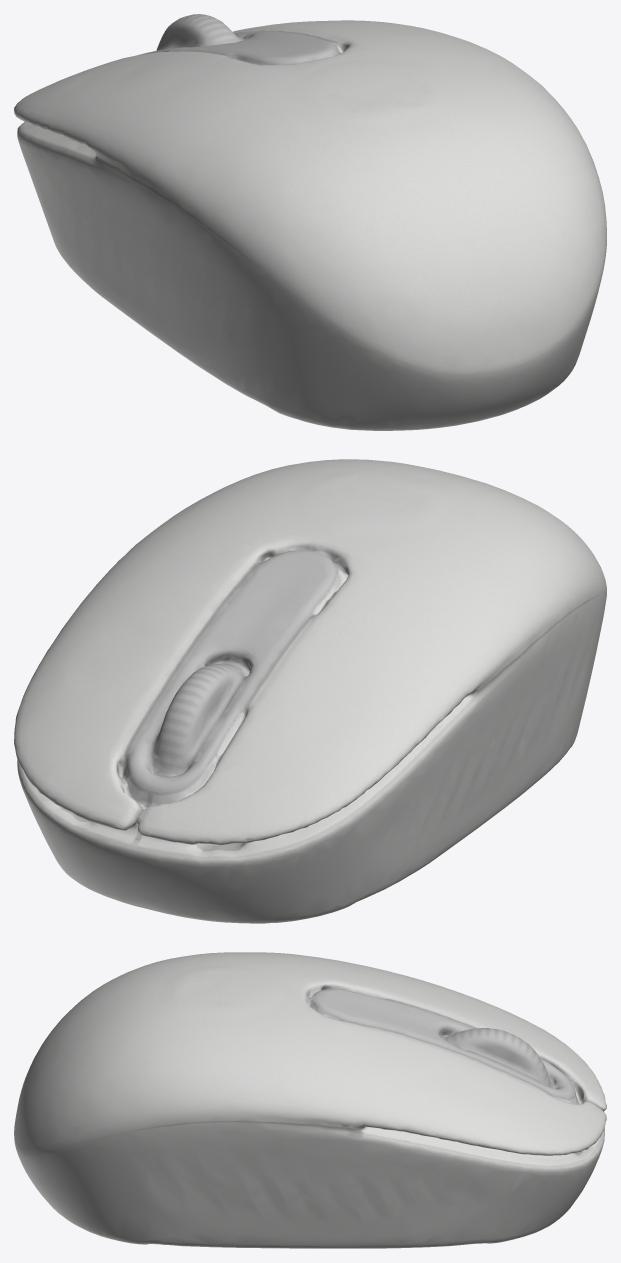
File: logitech-m196.glb
3 renders of one model, top to bottom at view 1: azimuth 30°, elevation 25°; view 2: azimuth 150°, elevation 25°; view 3: azimuth 270°, elevation 25°, orthographic. The views are drawn at different scales.
Visible parts, largest first — view 1: logitech-m196; view 2: logitech-m196; view 3: logitech-m196.
Boxes of the visible parts, <box> form: logitech-m196: <box>14,14,606,430</box>; logitech-m196: <box>14,459,606,923</box>; logitech-m196: <box>14,952,606,1248</box>.
Bounding box in the file's own units: 0.06 × 0.038 × 0.1.
1 material, 1 textured.
